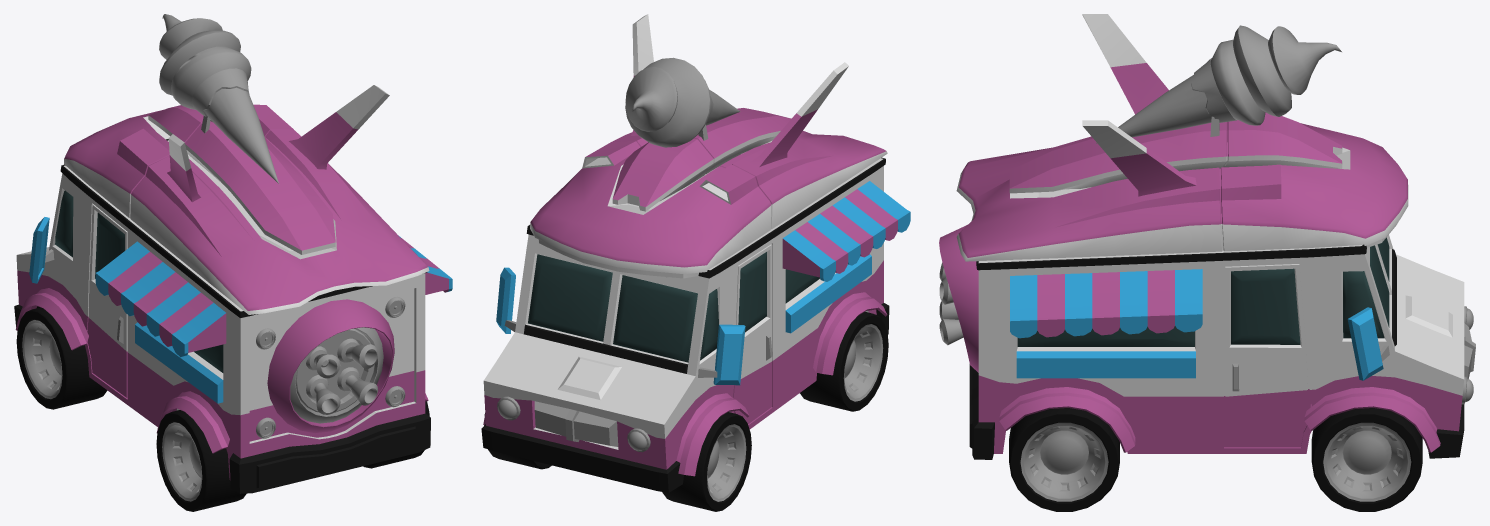
The model's file is IceCream_Kart01.FBX.
3 views of the same model, side by side, from view 1: azimuth 30°, elevation 25°; view 2: azimuth 150°, elevation 25°; view 3: azimuth 270°, elevation 25° (orthographic). The views are drawn at different scales.
Visible parts, largest first — view 1: Main_Body, Top_Shell, Jet_Engine, Cone, Awnings, Tire_FrontLeft, Tire_BackLeft, Cylinder012; view 2: Main_Body, Top_Shell, Awnings, Cone, Tire_BackLeft, Tire_FrontLeft; view 3: Main_Body, Top_Shell, Awnings, Cone, Tire_FrontRight, Tire_BackRight, Jet_Engine, Cylinder012.
Boxes of the visible parts, x1,y1,x2,y2 form: Main_Body: [14, 116, 430, 493]; Top_Shell: [64, 85, 429, 314]; Jet_Engine: [256, 297, 405, 438]; Cone: [159, 14, 278, 183]; Awnings: [95, 235, 452, 357]; Tire_FrontLeft: [16, 307, 107, 409]; Tire_BackLeft: [156, 410, 246, 511]; Cylinder012: [306, 338, 377, 414]; Main_Body: [481, 124, 889, 492]; Top_Shell: [530, 14, 887, 278]; Awnings: [782, 181, 910, 281]; Cone: [625, 57, 740, 147]; Tire_BackLeft: [800, 312, 888, 411]; Tire_FrontLeft: [662, 412, 751, 511]; Main_Body: [969, 116, 1475, 459]; Top_Shell: [956, 14, 1408, 261]; Awnings: [1010, 269, 1202, 338]; Cone: [1096, 25, 1341, 143]; Tire_FrontRight: [1311, 408, 1422, 511]; Tire_BackRight: [1009, 408, 1119, 511]; Jet_Engine: [939, 224, 978, 372]; Cylinder012: [939, 262, 963, 345].
Bounding box in the file's own units: 117 × 163 × 188.
